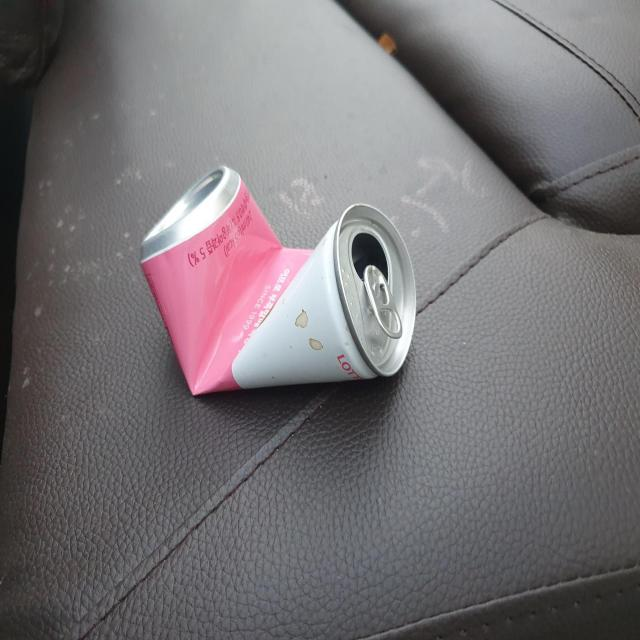can: (140, 166, 416, 395)
